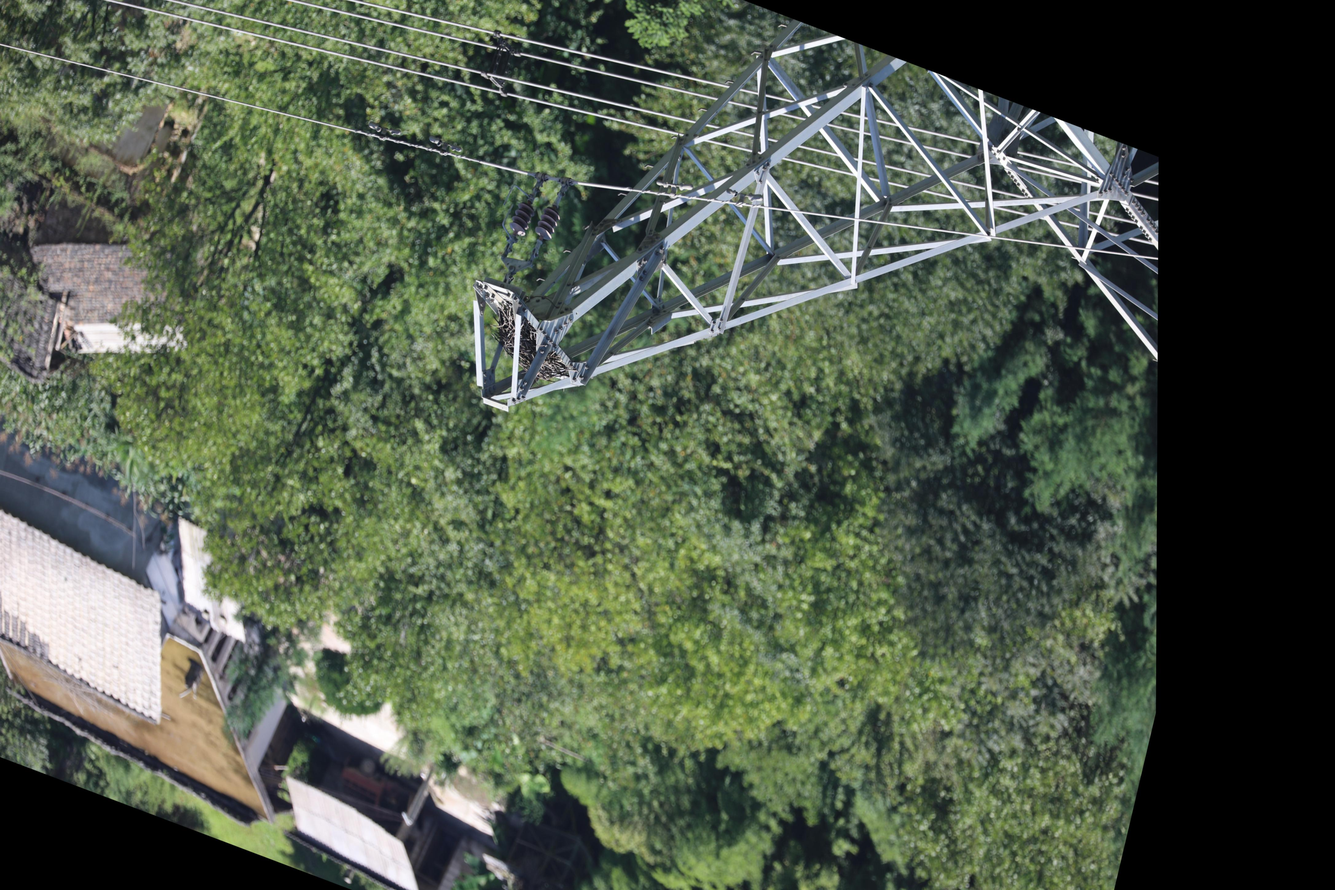damper: (721, 179, 766, 218), (652, 168, 696, 207), (424, 131, 465, 165), (381, 121, 420, 155)
